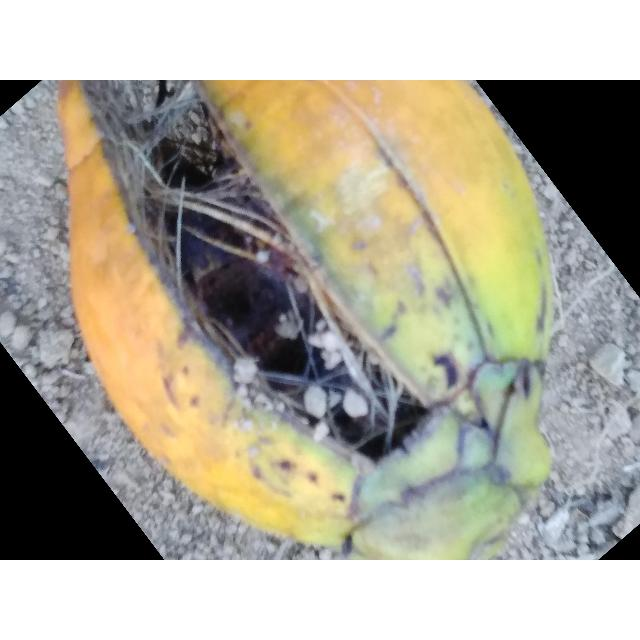damaged: (54, 83, 552, 560)
